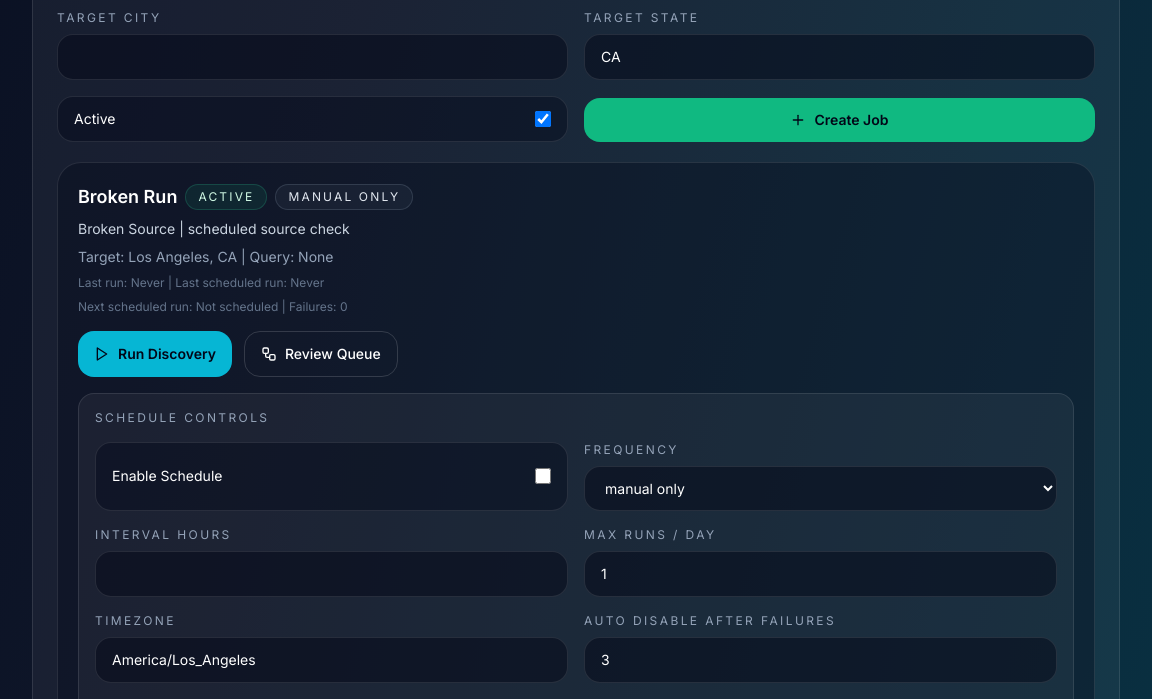
Test: Sober living directory pages › shows discovery run failures on the discovery page
(page scrolled)
Click the button "Run Discovery". click: click(155, 354)
box: [78, 331, 232, 377]
(page scrolled)
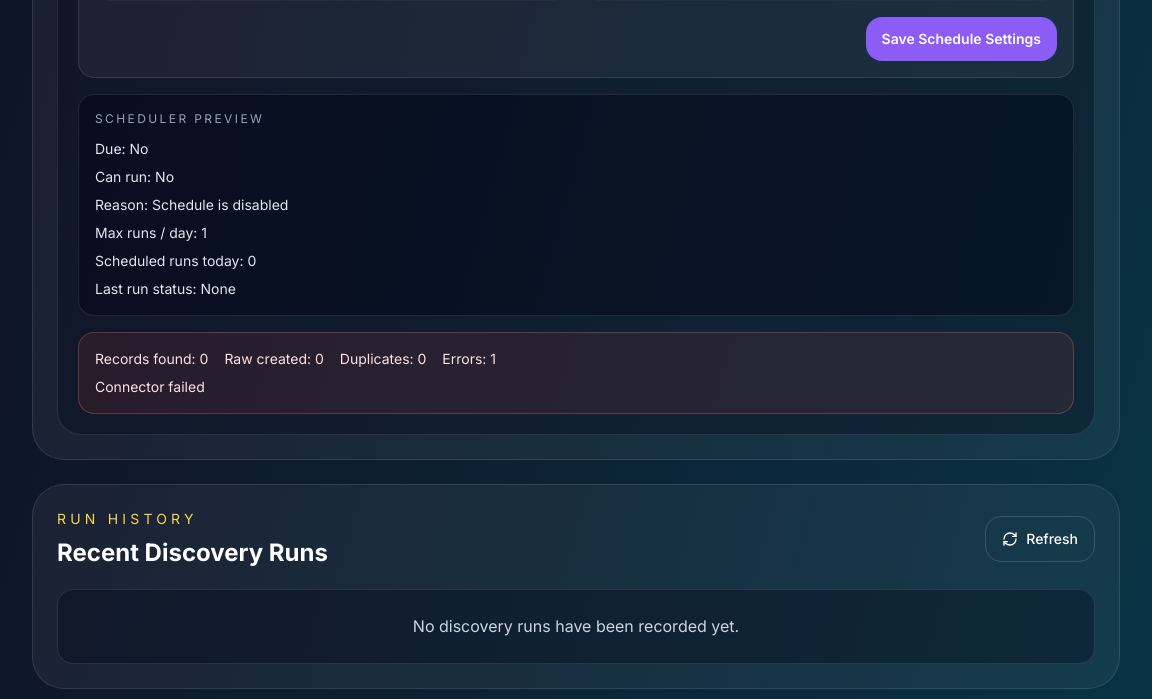
Result: the text "Connector failed" is shown at [95, 378, 205, 395]
